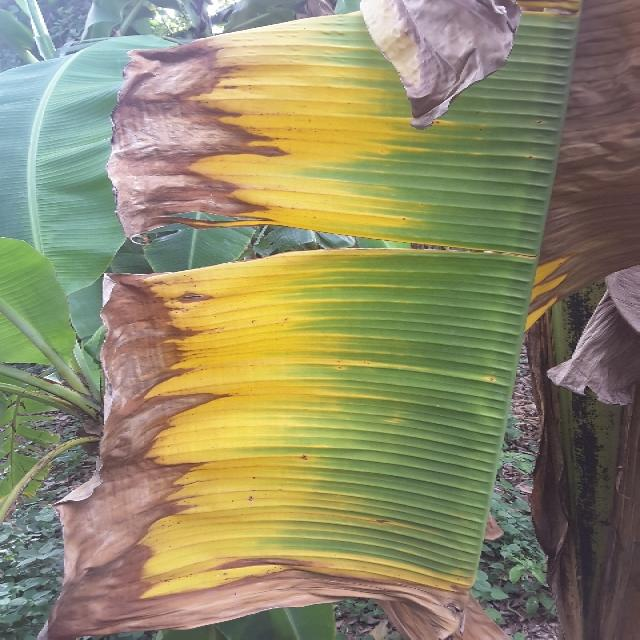Bract_mosaic_virus: (29, 257, 139, 640), (563, 0, 640, 317), (364, 0, 528, 123), (563, 255, 640, 426)
Cordana: (152, 258, 454, 587), (174, 34, 492, 253), (509, 255, 588, 338)
